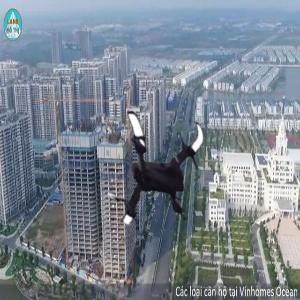drone: (86, 106, 226, 246)
